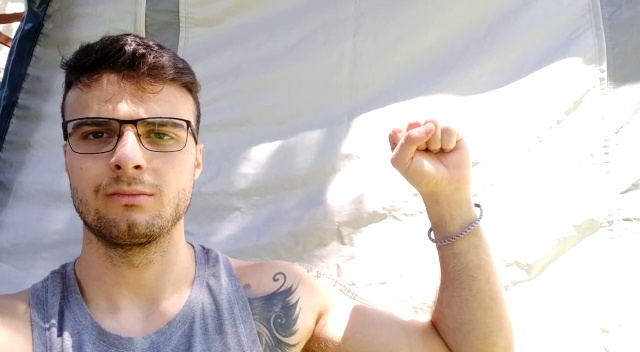Fist: (384, 113, 473, 208)
